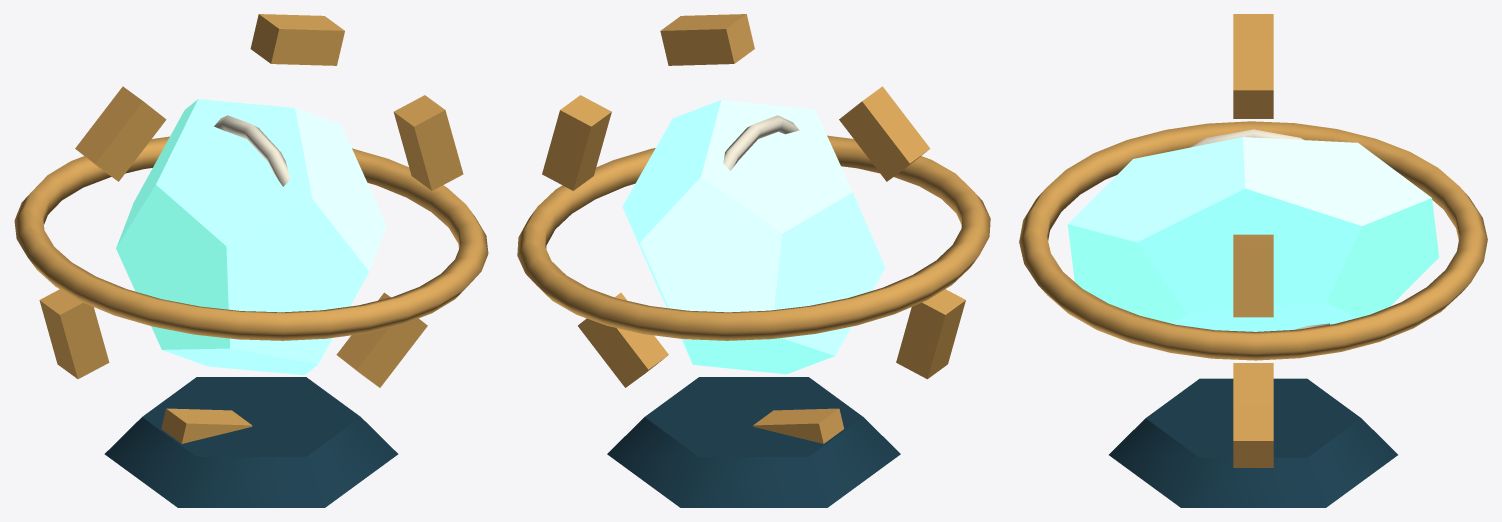
File: relic-12.glb
The picture shows the model from 3 angles, left to right: view 1: azimuth 30°, elevation 25°; view 2: azimuth 150°, elevation 25°; view 3: azimuth 270°, elevation 25°; orthographic projection.
Visible parts, largest first — view 1: aether-glass-merged, aged-brass-merged, deep-basalt-merged, chalk-sail-merged; view 2: aether-glass-merged, aged-brass-merged, deep-basalt-merged, chalk-sail-merged; view 3: aether-glass-merged, aged-brass-merged, deep-basalt-merged, chalk-sail-merged.
Part boxes in pixels (x1,y1,x2,y2): aether-glass-merged: (116,99,386,375); aged-brass-merged: (14,14,488,443); deep-basalt-merged: (104,377,398,507); chalk-sail-merged: (214,115,290,186); aether-glass-merged: (622,100,885,374); aged-brass-merged: (517,14,990,443); deep-basalt-merged: (607,377,900,507); chalk-sail-merged: (723,115,799,170); aether-glass-merged: (1067,137,1439,331); aged-brass-merged: (1019,14,1487,467); deep-basalt-merged: (1109,378,1397,507); chalk-sail-merged: (1191,129,1329,329).
Size of the model in its own units: 1.39 by 1.38 by 1.39.
